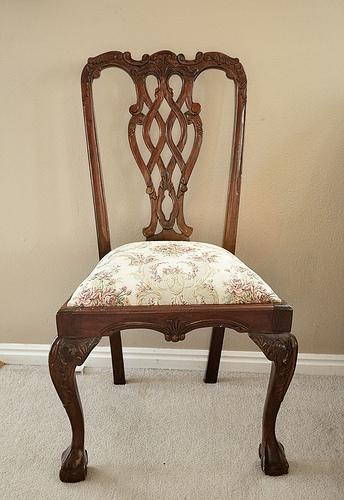obstacle: (49, 51, 297, 481)
